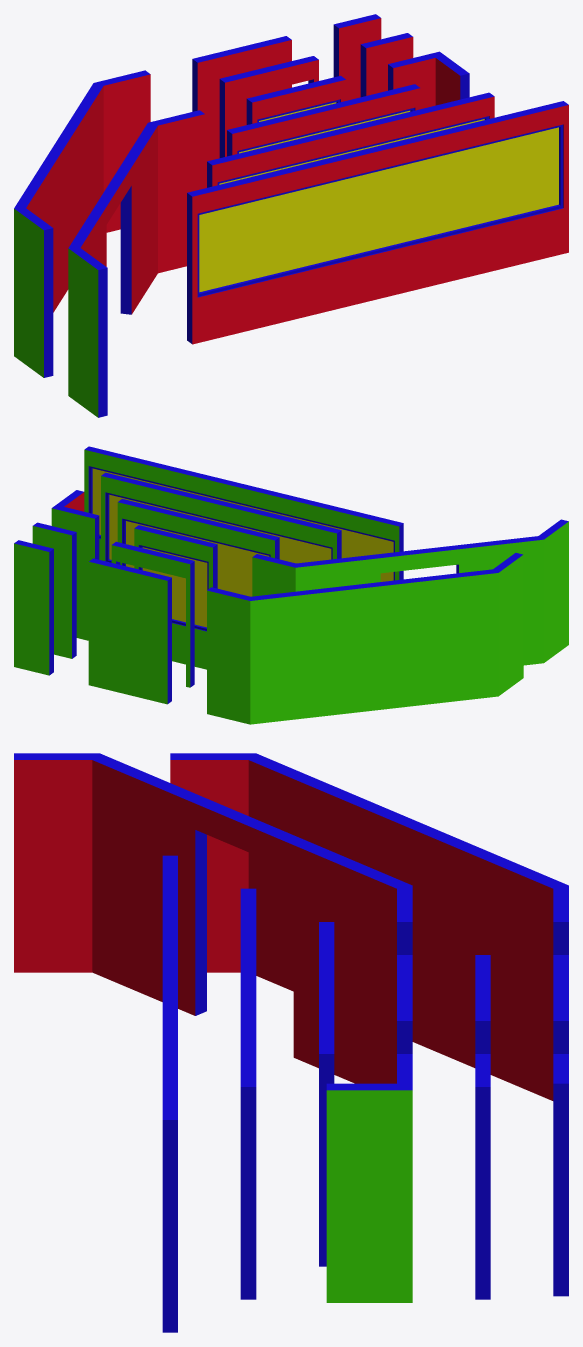
Rendered from modularWalls.fbx.
3 views of the same model, one above another, from view 1: azimuth 30°, elevation 25°; view 2: azimuth 150°, elevation 25°; view 3: azimuth 270°, elevation 25° (orthographic). The views are drawn at different scales.
Visible parts, largest first — view 1: QuadrupleWindow, QuadrupleWindow_Glass, DiagonalDoorway, DiagonalWall, TripleWindow, DoubleWindow, Wall, Corner, Doorway, Window, HalfWall_v2, HalfWall (+1 smaller); view 2: DiagonalWall, DiagonalDoorway, Wall, QuadrupleWindow, TripleWindow, HalfWall_v2, DoubleWindow, HalfWall, Window, Corner, Doorway, QuadrupleWindow_Glass (+3 smaller); view 3: DiagonalDoorway, DiagonalWall, Corner, QuadrupleWindow, TripleWindow, DoubleWindow, HalfWall, HalfWall_v2, Window, Wall, Doorway.
Part boxes in pixels (<box>): QuadrupleWindow: <box>187,101,568,344</box>; QuadrupleWindow_Glass: <box>199,127,558,292</box>; DiagonalDoorway: <box>68,110,204,417</box>; DiagonalWall: <box>14,70,150,377</box>; TripleWindow: <box>207,92,494,187</box>; DoubleWindow: <box>227,84,420,156</box>; Wall: <box>192,36,291,188</box>; Corner: <box>388,51,469,108</box>; Doorway: <box>219,56,318,157</box>; Window: <box>246,75,346,124</box>; HalfWall_v2: <box>333,14,381,100</box>; HalfWall: <box>360,33,413,97</box>; DiagonalWall: <box>207,553,523,724</box>; DiagonalDoorway: <box>252,519,568,665</box>; Wall: <box>88,558,171,704</box>; QuadrupleWindow: <box>84,446,403,580</box>; TripleWindow: <box>101,472,341,562</box>; HalfWall_v2: <box>14,540,53,675</box>; DoubleWindow: <box>117,499,279,566</box>; HalfWall: <box>32,522,76,658</box>; Window: <box>134,525,217,669</box>; Corner: <box>51,490,99,640</box>; Doorway: <box>111,541,194,687</box>; QuadrupleWindow_Glass: <box>92,468,393,581</box>; DiagonalDoorway: <box>14,753,412,1083</box>; DiagonalWall: <box>170,753,568,1100</box>; Corner: <box>326,1054,412,1302</box>; QuadrupleWindow: <box>162,855,177,1332</box>; TripleWindow: <box>240,888,256,1299</box>; DoubleWindow: <box>319,922,334,1266</box>; HalfWall: <box>475,1054,490,1299</box>; HalfWall_v2: <box>553,1054,568,1296</box>; Window: <box>397,955,412,1053</box>; Wall: <box>553,955,568,1053</box>; Doorway: <box>475,955,490,1053</box>.
Bounding box in the file's own units: 11.1 × 3 × 7.1.
